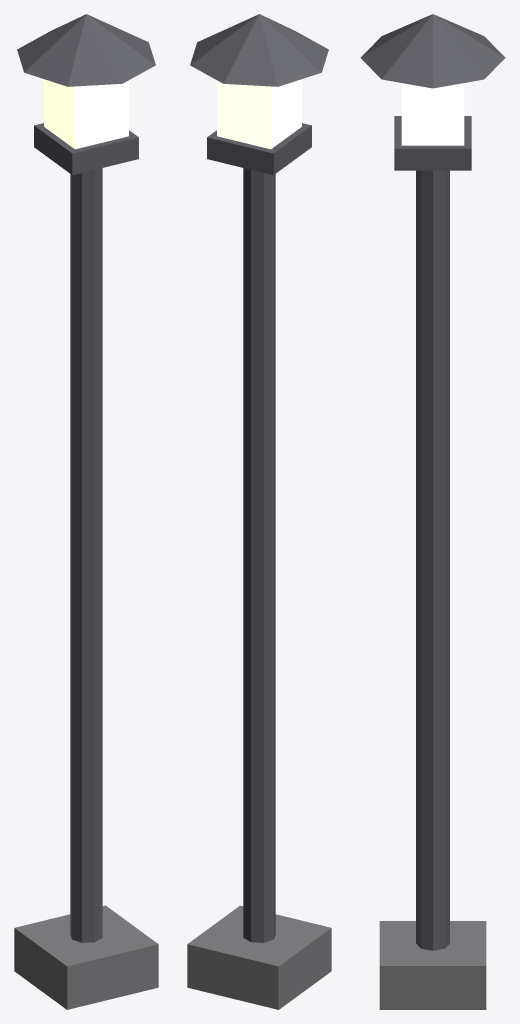
The model's file is prop_lantern.glb.
3 views of the same model, side by side, from view 1: azimuth 30°, elevation 25°; view 2: azimuth 150°, elevation 25°; view 3: azimuth 270°, elevation 25° (orthographic).
Parts seen in each view (by area): view 1: prop_lantern; view 2: prop_lantern; view 3: prop_lantern.
Boxes of the visible parts, x1=… form: prop_lantern: x1=14, y1=14, x2=158, y2=1009; prop_lantern: x1=187, y1=14, x2=331, y2=1009; prop_lantern: x1=360, y1=14, x2=505, y2=1009.
Size of the model in its own units: 0.3 by 2.22 by 0.3.
